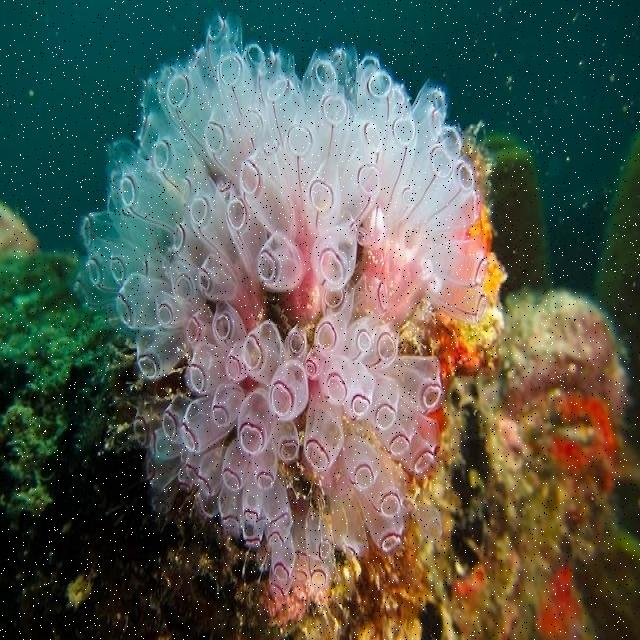reefs: (73, 13, 489, 602)
